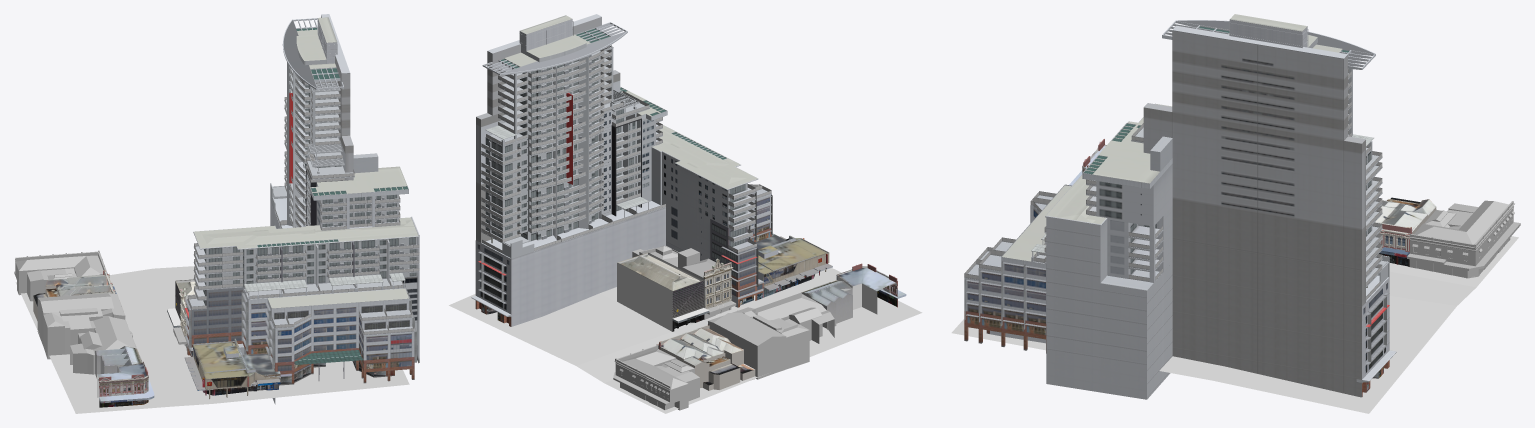
File: City_Nick2.fbx
The picture shows the model from 3 angles, left to right: view 1: azimuth 30°, elevation 25°; view 2: azimuth 150°, elevation 25°; view 3: azimuth 270°, elevation 25°; orthographic projection. The views are drawn at different scales.
Visible parts, largest first — view 1: C15_580_Hay_St_EQUUS, Plane.004, C14_77_85_Barrack_St, C15_604_Hay_St_CinemaCity, C14_95_99_Barrack_St, C14_612_Hay_St_Mall_QuinlanSwan, C14_87_93_Barrack_St, C14_69_75_Barrack_St, C15_86_90_Barrack_St, C15_78_84_Barrack_BonMarche; view 2: C15_580_Hay_St_EQUUS, Plane.004, C14_77_85_Barrack_St, C15_86_90_Barrack_St, C14_95_99_Barrack_St, C14_87_93_Barrack_St, C15_604_Hay_St_CinemaCity, C15_78_84_Barrack_BonMarche, C14_612_Hay_St_Mall_QuinlanSwan, C14_69_75_Barrack_St; view 3: C15_580_Hay_St_EQUUS, Plane.004, C14_95_99_Barrack_St, C14_87_93_Barrack_St.
Part boxes in pixels (x1,y1,x2,y2): C15_580_Hay_St_EQUUS: [184, 14, 419, 404]; Plane.004: [15, 266, 409, 413]; C14_77_85_Barrack_St: [37, 293, 141, 374]; C15_604_Hay_St_CinemaCity: [184, 338, 280, 399]; C14_95_99_Barrack_St: [14, 250, 107, 301]; C14_612_Hay_St_Mall_QuinlanSwan: [97, 361, 154, 407]; C14_87_93_Barrack_St: [33, 270, 123, 320]; C14_69_75_Barrack_St: [95, 346, 141, 378]; C15_86_90_Barrack_St: [167, 279, 196, 327]; C15_78_84_Barrack_BonMarche: [173, 288, 195, 350]; C15_580_Hay_St_EQUUS: [471, 14, 772, 326]; Plane.004: [449, 268, 922, 413]; C14_77_85_Barrack_St: [708, 292, 834, 379]; C15_86_90_Barrack_St: [617, 252, 709, 331]; C14_95_99_Barrack_St: [613, 344, 699, 410]; C14_87_93_Barrack_St: [656, 324, 755, 390]; C15_604_Hay_St_CinemaCity: [755, 233, 832, 297]; C15_78_84_Barrack_BonMarche: [632, 245, 736, 319]; C14_612_Hay_St_Mall_QuinlanSwan: [836, 263, 906, 314]; C14_69_75_Barrack_St: [801, 280, 852, 328]; C15_580_Hay_St_EQUUS: [964, 14, 1396, 399]; Plane.004: [951, 236, 1518, 413]; C14_95_99_Barrack_St: [1407, 200, 1520, 278]; C14_87_93_Barrack_St: [1375, 197, 1436, 266].
Size of the model in its own units: 15110 by 10809 by 15151.
